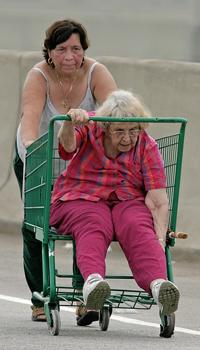person: (13, 18, 120, 328)
